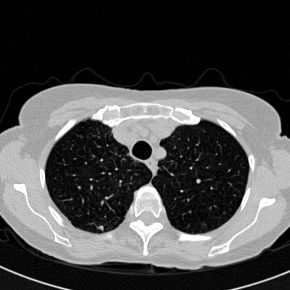nodule: (99, 226, 103, 230)
